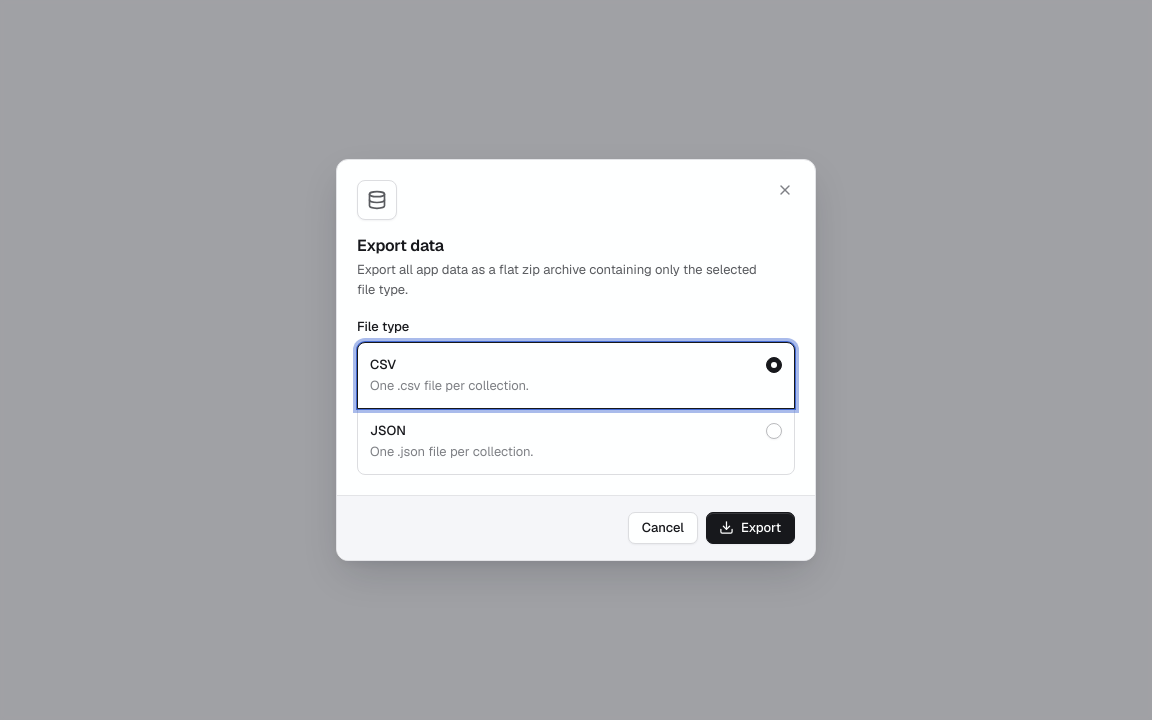
Test case: ExportDialog › downloads the chosen file type as a zip
The image size is (1152, 720).
Check: the 1st radio button named "CSV" is checked, box [766,357,782,373]
Click the 2nd radio button named "JSON": (774,431) [766,423,782,439]
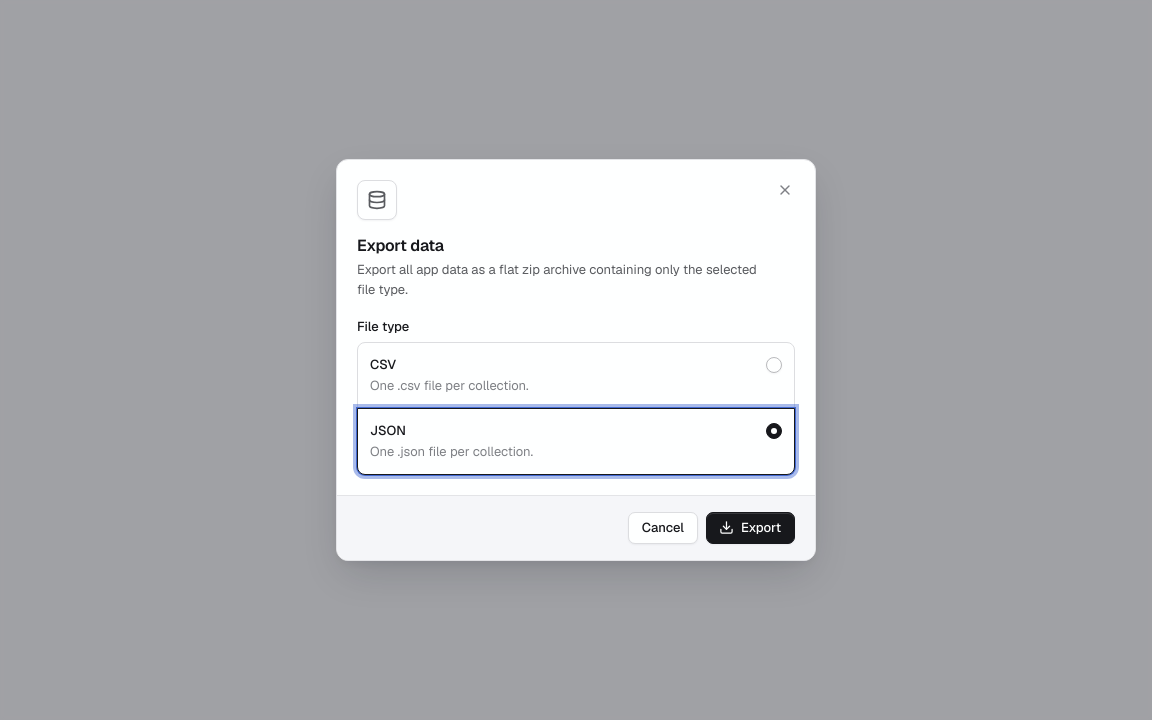
Click the button "Export": (750,528) [706,512,795,544]
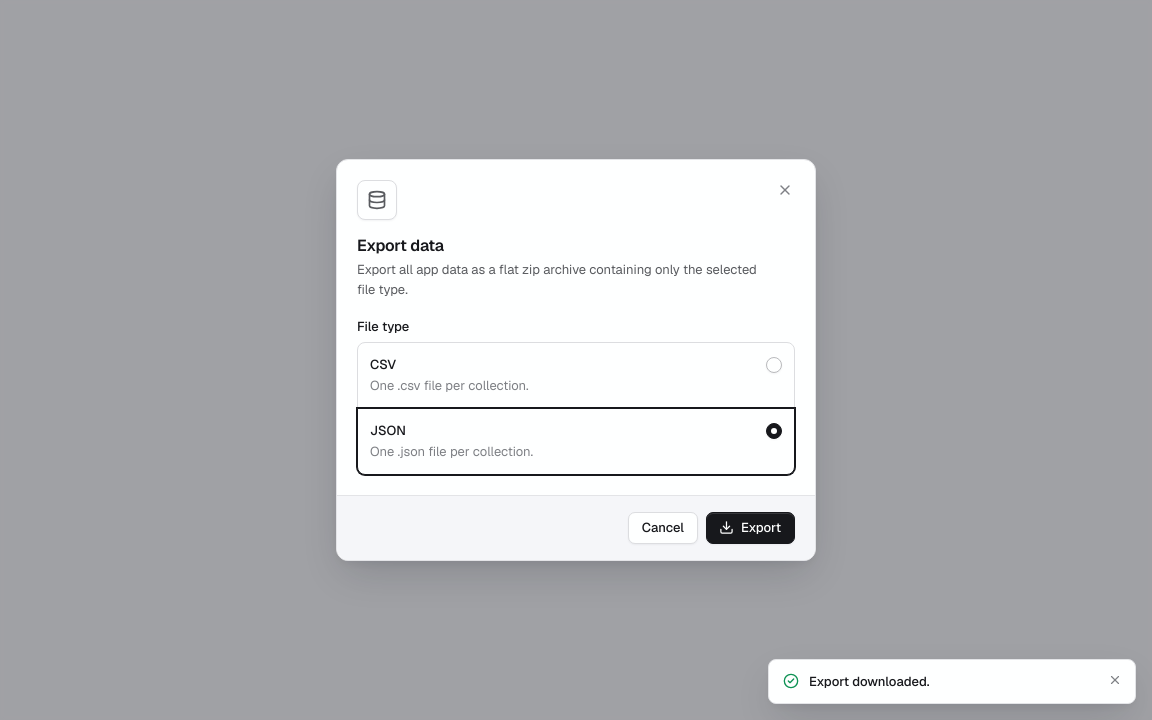
Check: the text "Export downloaded." is shown, box [809,672,930,690]
